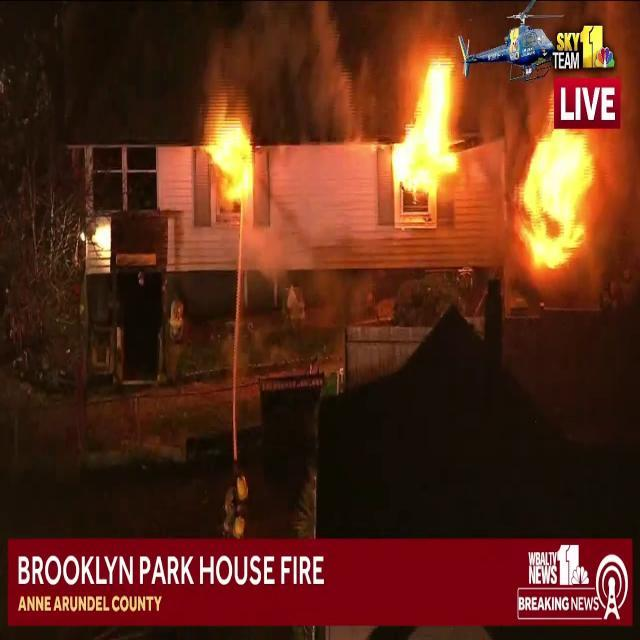Fire: (512, 68, 624, 276), (382, 48, 469, 198), (203, 108, 260, 211)
